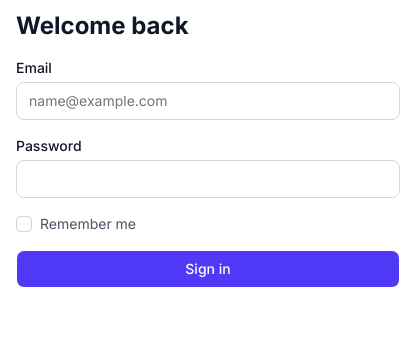
Test case: LoginPage › shows an error message and does not redirect on failed sign in
The width and height of the screenshot is (417, 340).
In the field labelled "Email": (208,101) [16,82,400,120], type "wrong@example.com"
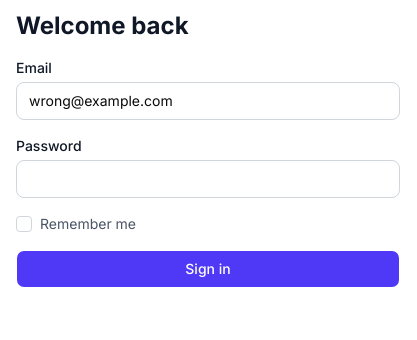
In the password field labelled "Password": (208,179) [16,160,400,198], type "wrong"
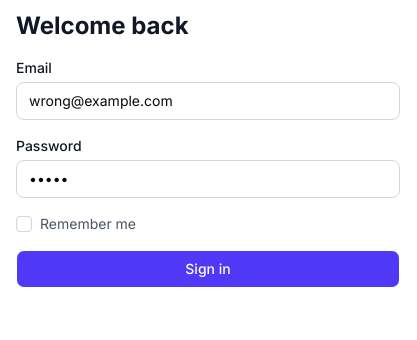
Click the button "Sign in": (208,269) [16,250,400,288]
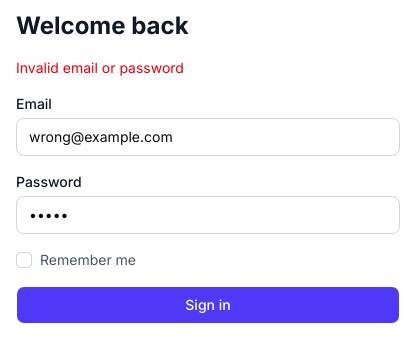
Result: the message reads "Invalid email or password" at [16,59,184,76]
